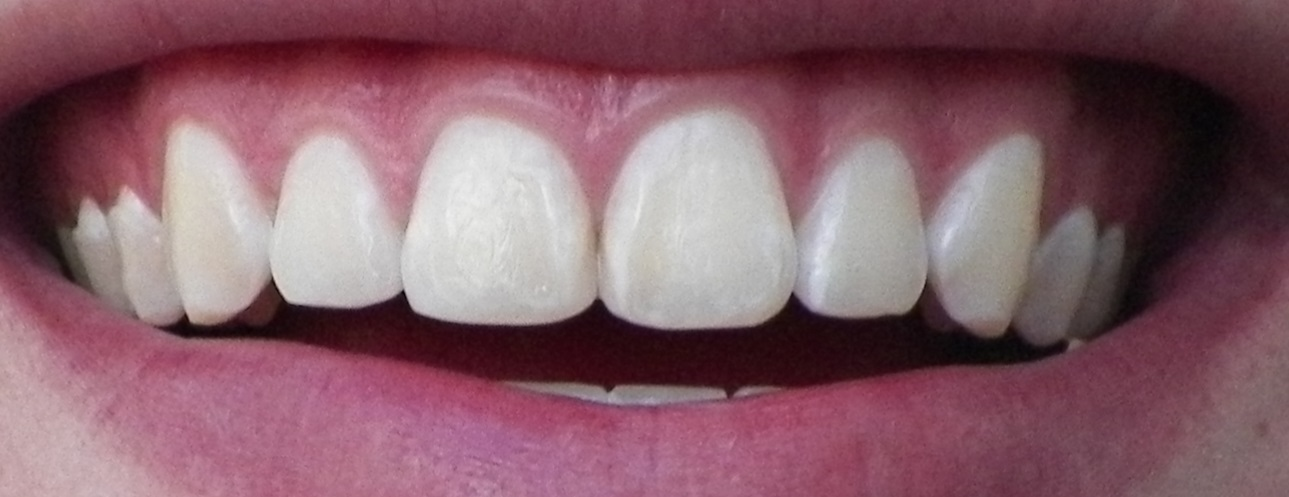boca: (64, 66, 1164, 431)
